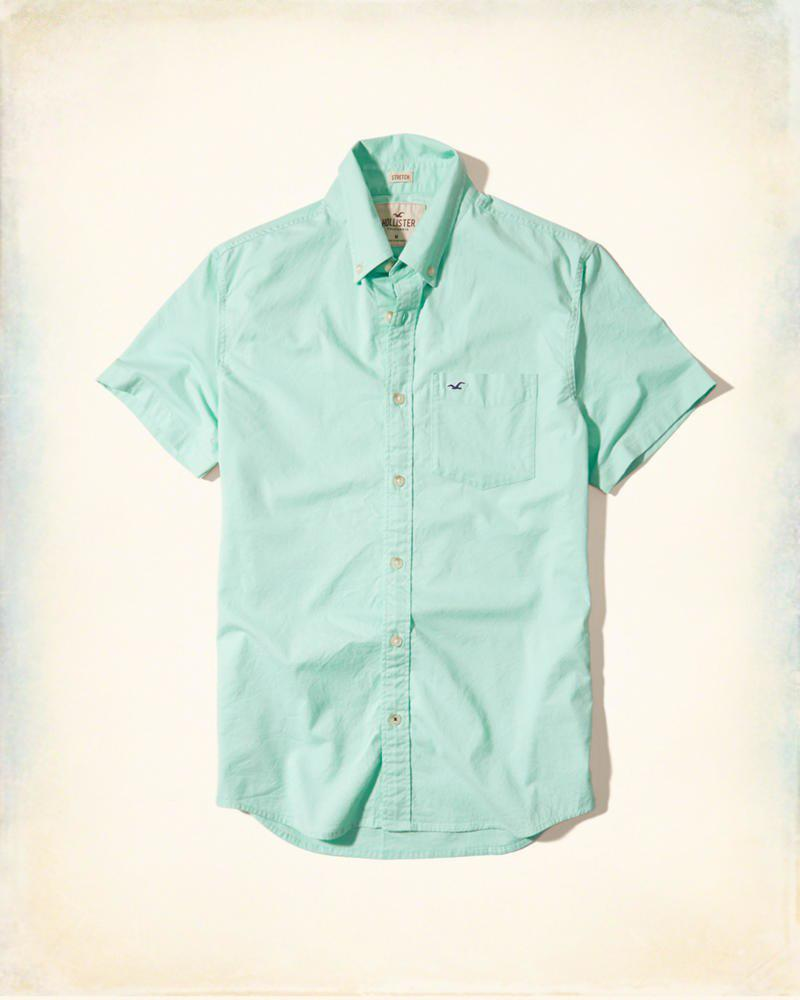teeshirt: (105, 124, 720, 869)
